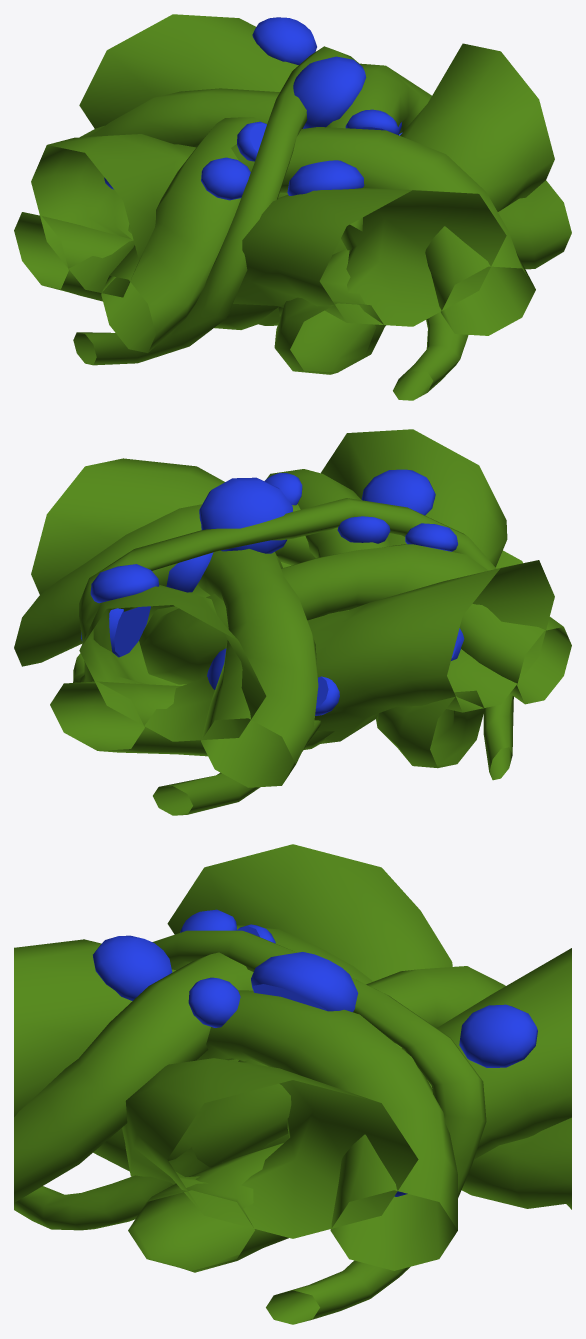
The picture shows the model from 3 angles, top to bottom: view 1: azimuth 30°, elevation 25°; view 2: azimuth 150°, elevation 25°; view 3: azimuth 270°, elevation 25°; orthographic projection. The views are drawn at different scales.
Visible parts, largest first — view 1: root_water_cross; view 2: root_water_cross; view 3: root_water_cross.
Boxes of the visible parts, x1,y1,x2,y2 form: root_water_cross: (14, 14, 571, 400); root_water_cross: (14, 429, 571, 815); root_water_cross: (14, 844, 571, 1324).
Size of the model in its own units: 100 by 54.43 by 100.
